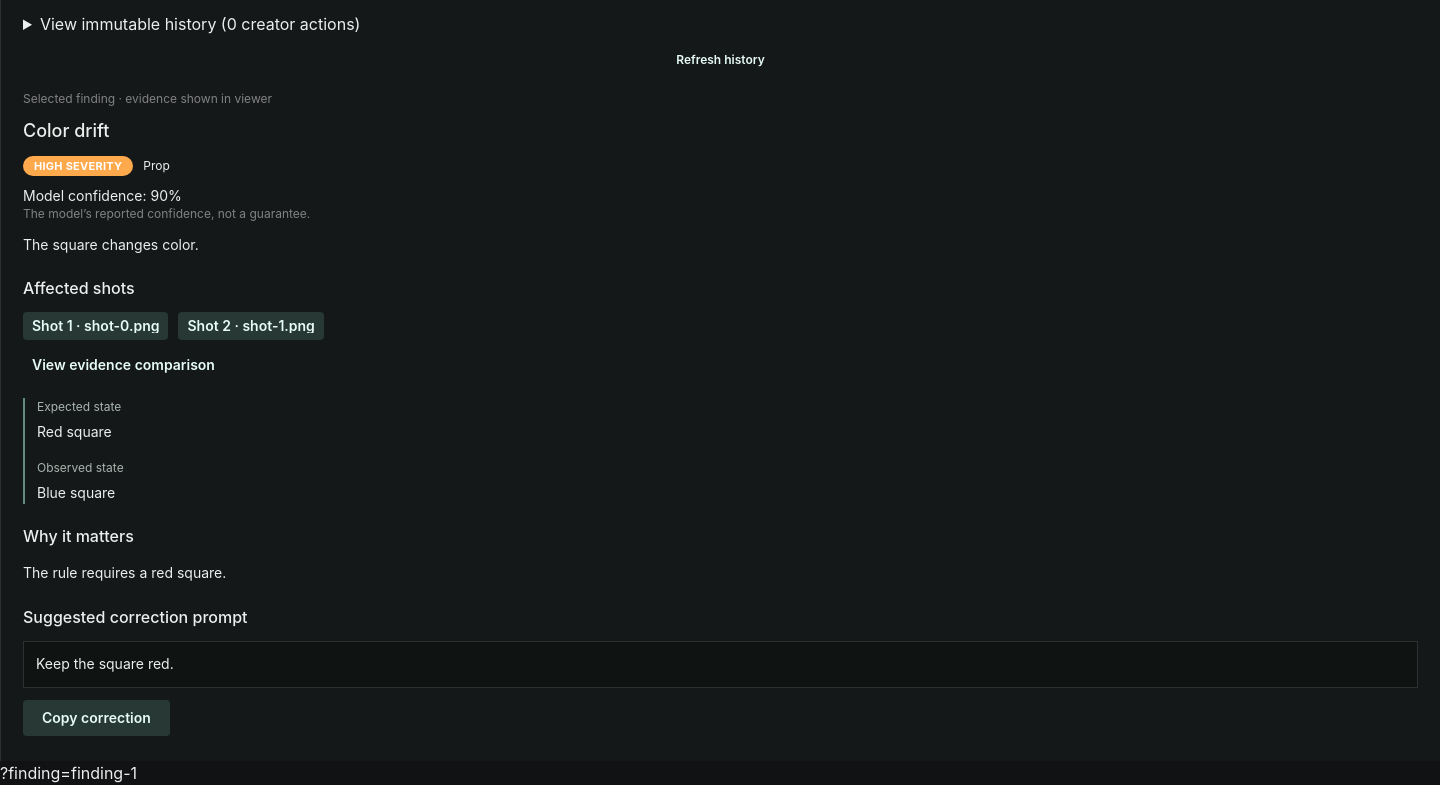
Test: reports clipboard failure and allows a successful retry
This screenshot has width=1440, height=785.
(page scrolled)
What coordinates should you click on to do the following:
click the button "Copy correction"
I would click on:
 (96, 718)
Its box is 23,700 -> 170,736.
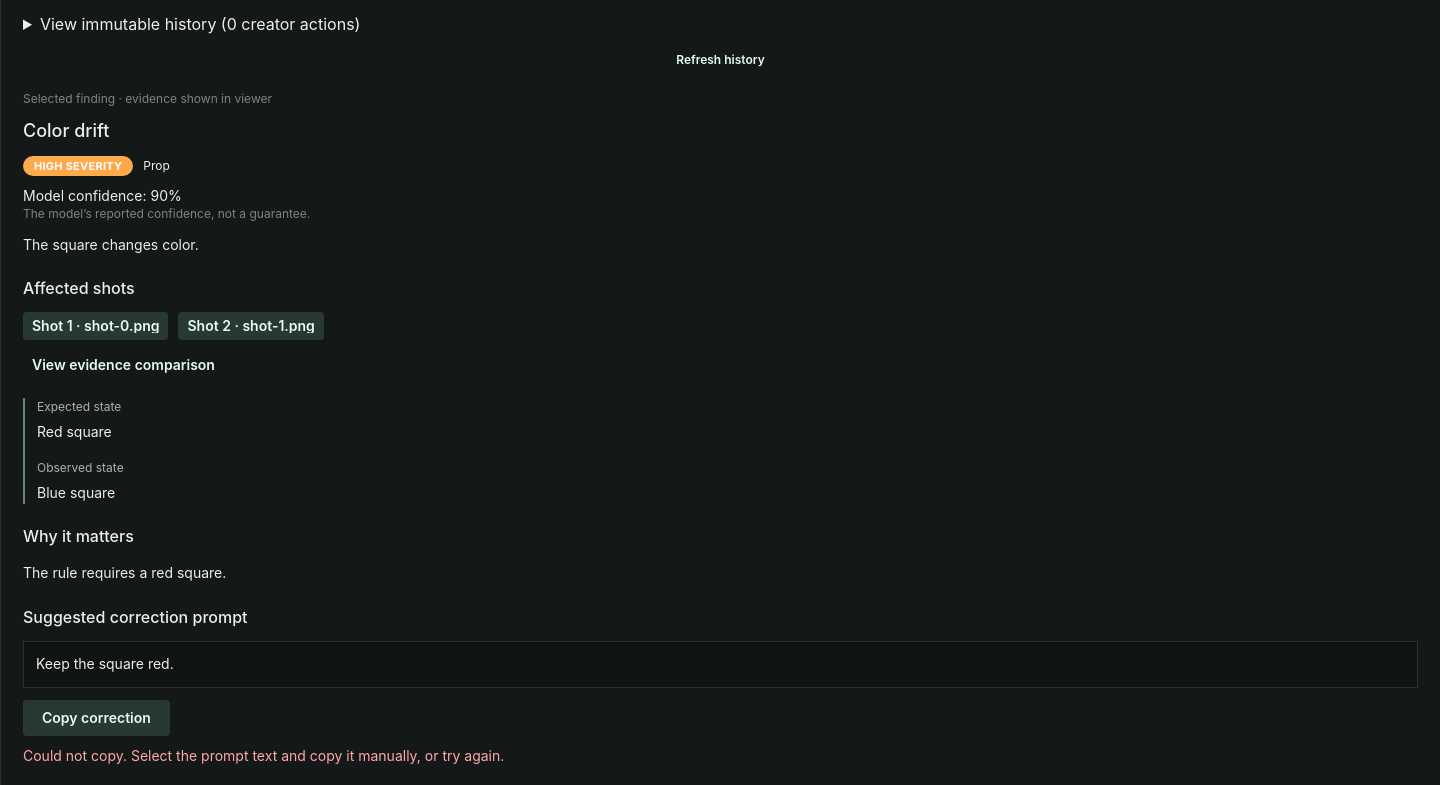
Expected: the text "Correction copied." is not shown
Expected: the message "Could not copy. Select the prompt text and copy it manually, or try again." is shown, 23,746 -> 504,764
What coordinates should you click on to do the following:
click the button "Copy correction"
I would click on:
 (96, 718)
Its box is 23,700 -> 170,736.
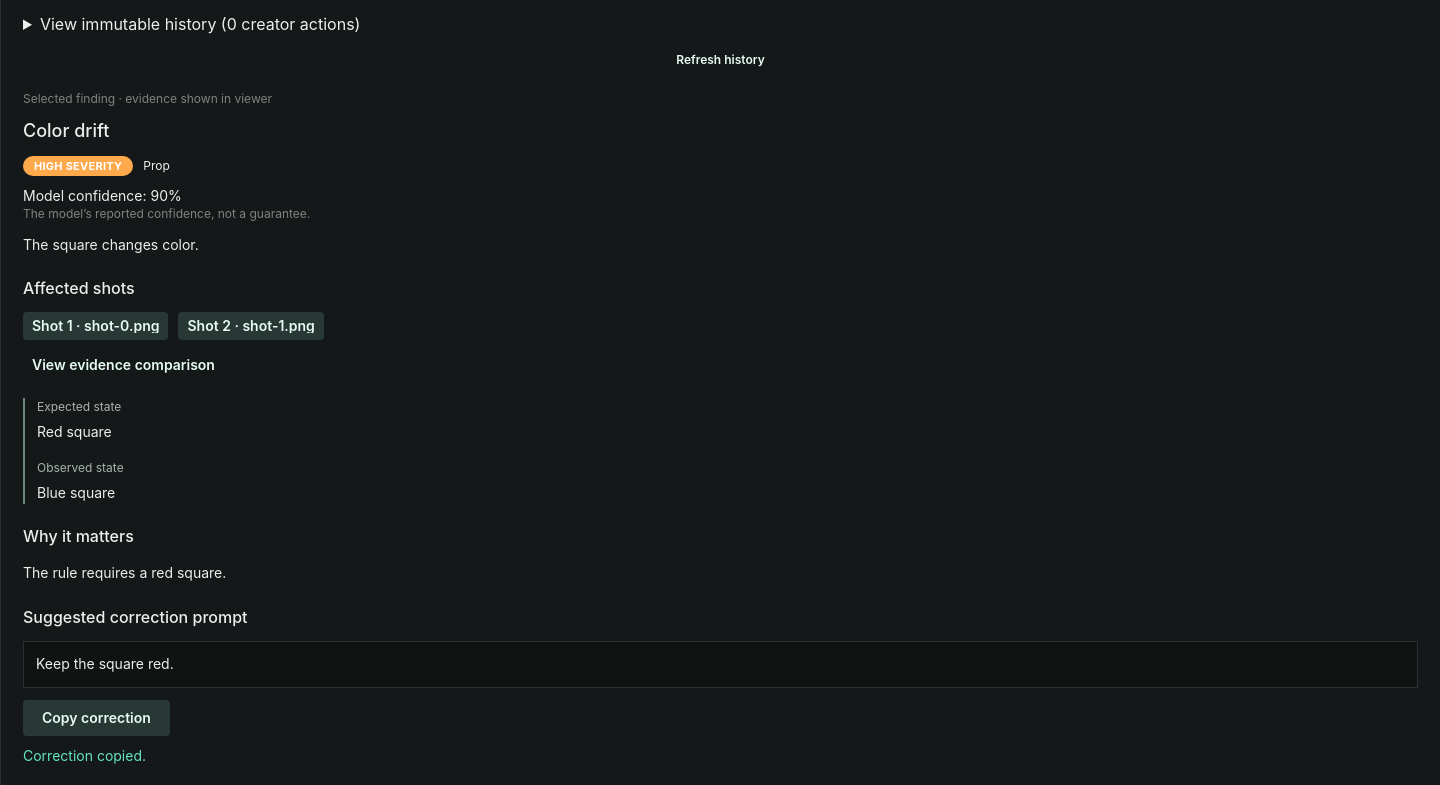
Expected: the text "Correction copied." is shown, 23,746 -> 146,764
